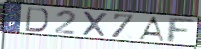2: (54, 9, 78, 36)
7: (112, 13, 136, 39)
A: (136, 16, 166, 43)
D: (24, 6, 50, 33)
F: (166, 16, 197, 44)
X: (81, 11, 109, 39)
